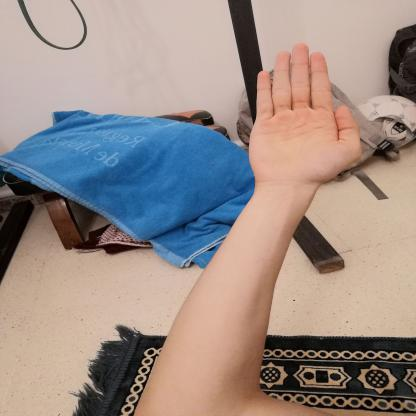SEEN: (238, 35, 372, 194)
